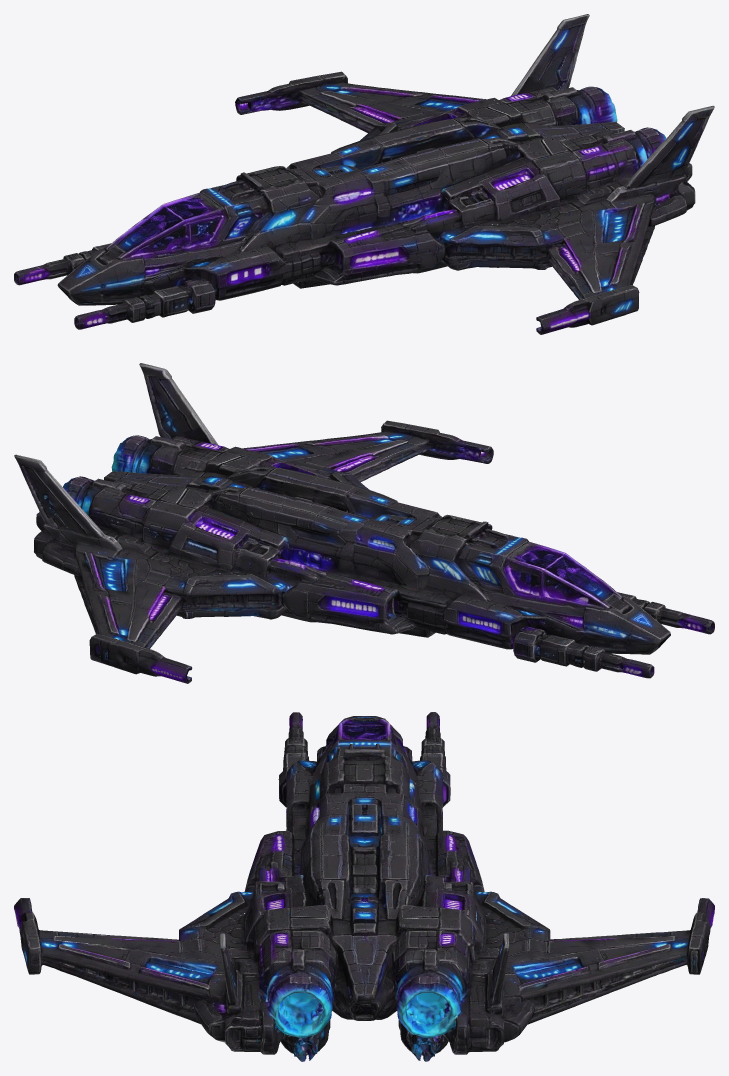
Rendered from vortex.glb.
The picture shows the model from 3 angles, top to bottom: view 1: azimuth 30°, elevation 25°; view 2: azimuth 150°, elevation 25°; view 3: azimuth 270°, elevation 25°; orthographic projection. The views are drawn at different scales.
Parts seen in each view (by area): view 1: mesh_0; view 2: mesh_0; view 3: mesh_0.
Part boxes in pixels (<box>): mesh_0: <box>14,14,714,334</box>; mesh_0: <box>14,363,714,683</box>; mesh_0: <box>14,712,714,1061</box>.
Size of the model in its own units: 1.9 by 0.4144 by 1.68.
1 material, 1 textured.
